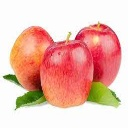apple: (9, 26, 59, 93)
